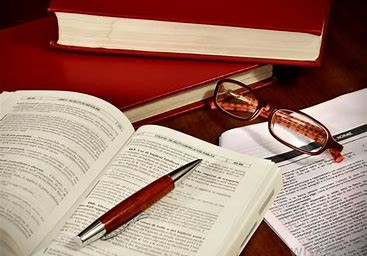pen: (73, 158, 201, 246)
